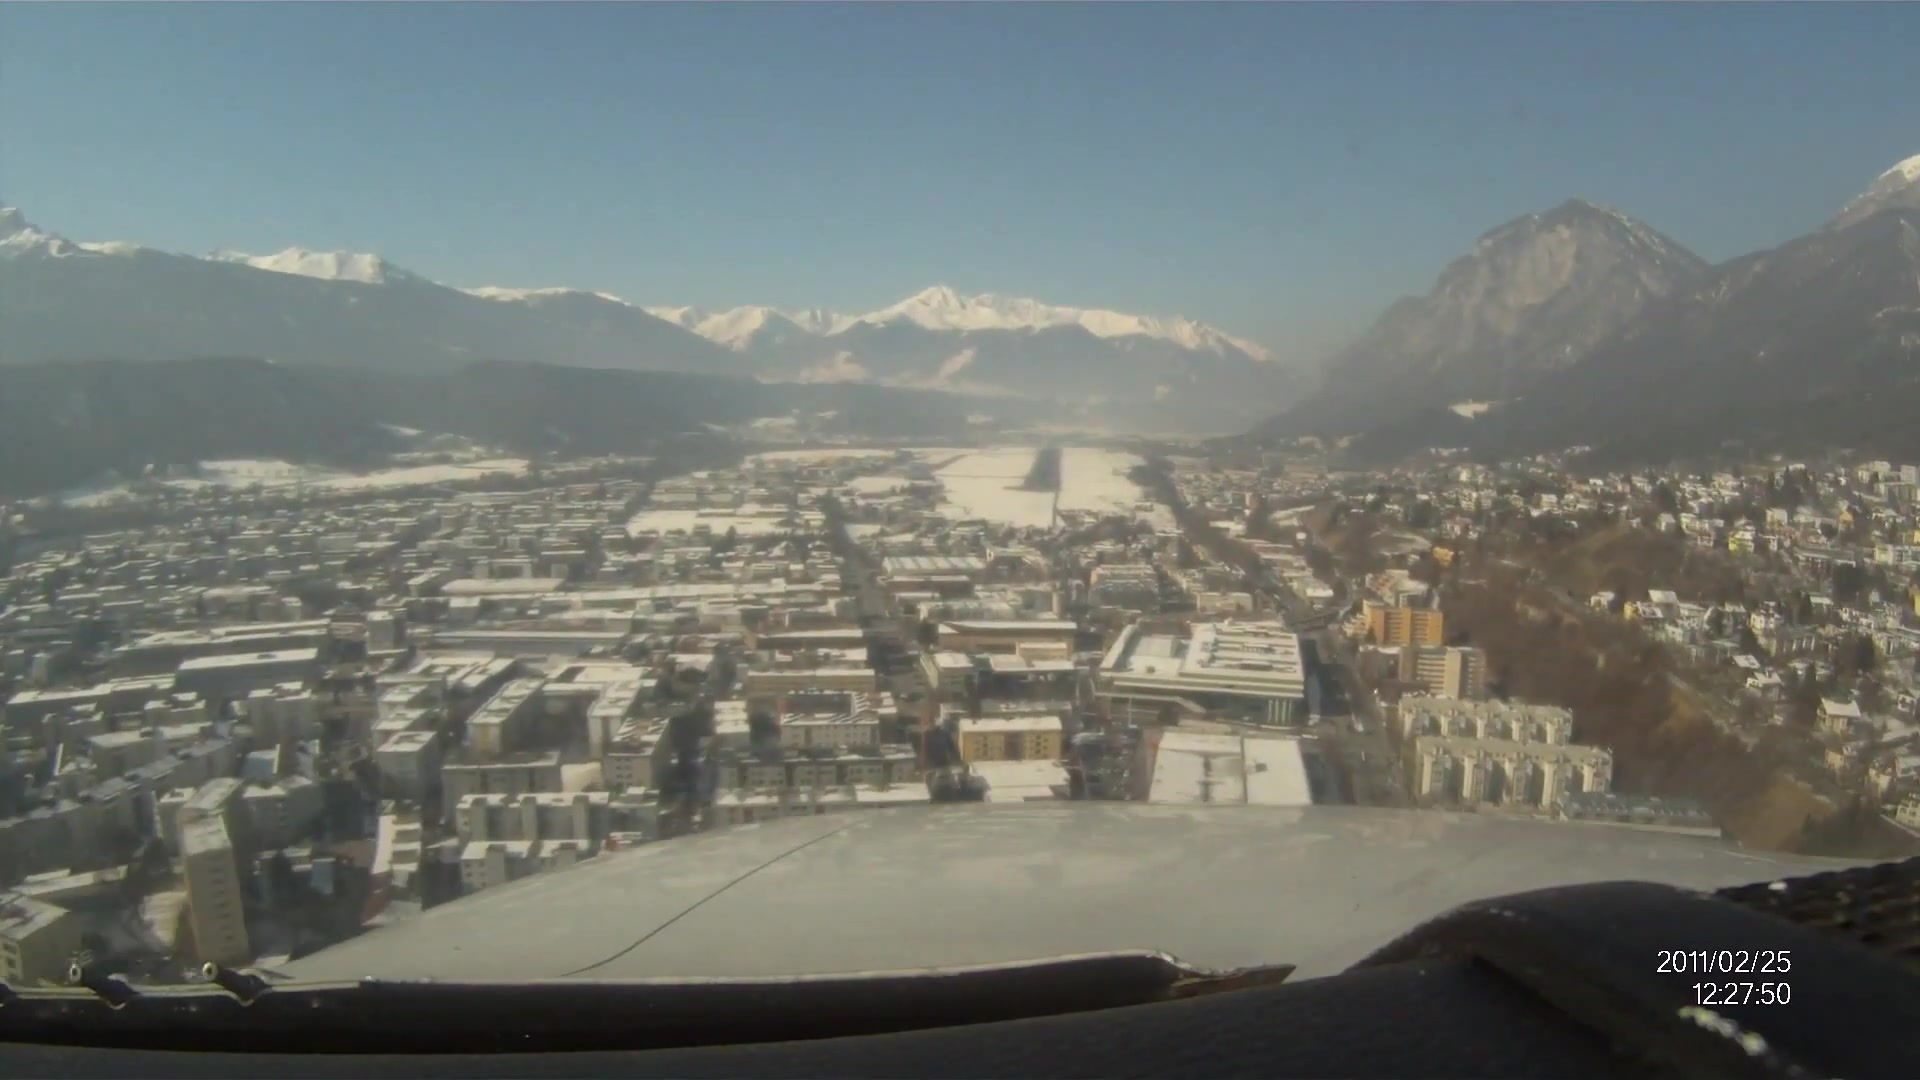runway: (1025, 447, 1065, 493)
